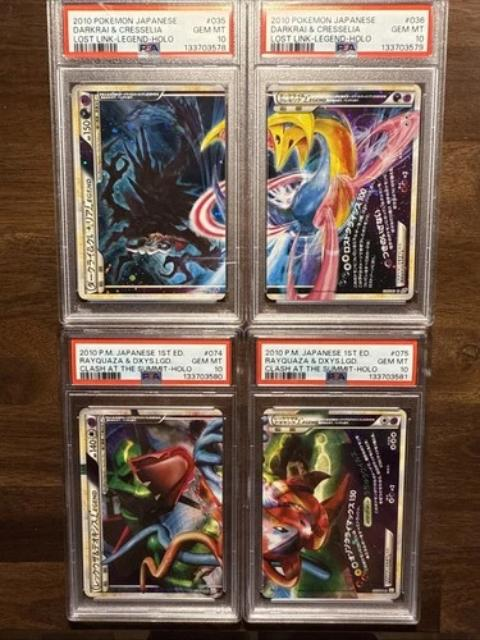Card: (69, 81, 230, 304), (264, 81, 425, 304), (256, 407, 409, 601), (76, 405, 226, 602)
Name: (80, 170, 98, 291), (86, 483, 103, 592), (274, 91, 330, 107), (270, 413, 322, 428)
